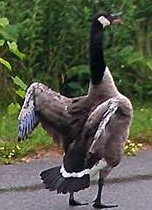goose: (15, 9, 147, 209)
